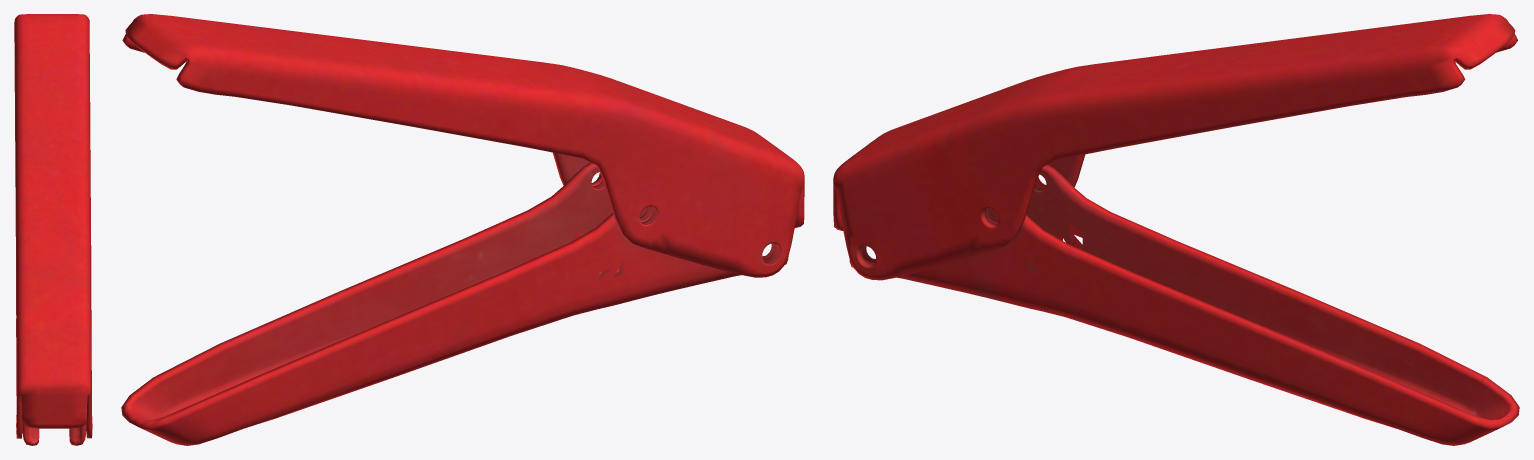
File: Handle.glb
3 views of the same model, side by side, from view 1: azimuth 30°, elevation 25°; view 2: azimuth 150°, elevation 25°; view 3: azimuth 270°, elevation 25° (orthographic). The views are drawn at different scales.
Visible parts, largest first — view 1: Handle; view 2: Handle; view 3: Handle.
Part boxes in pixels (left/top/right/bottom): Handle: left=14, top=14, right=92, bottom=445; Handle: left=121, top=14, right=804, bottom=445; Handle: left=833, top=14, right=1519, bottom=445.
Bounding box in the file's own units: 0.1006 × 0.0996 × 0.1514.
Materials: 1 (1 with a texture image).
